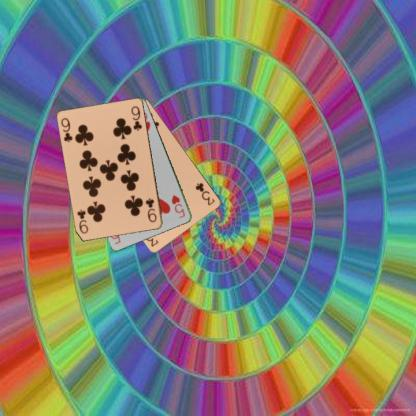3c: (193, 180, 216, 207)
5h: (169, 192, 187, 220)
9c: (58, 115, 74, 144), (144, 195, 158, 224)
